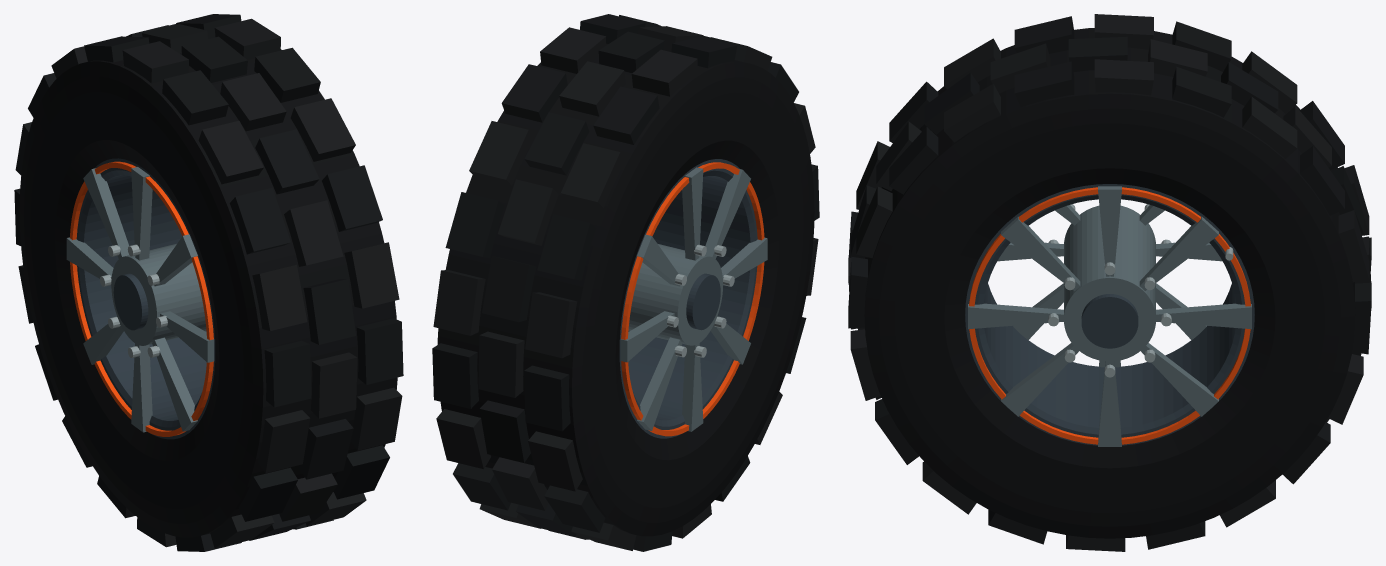
The model's file is M02-001_segmented_offroad_wheel.obj.
3 views of the same model, side by side, from view 1: azimuth 30°, elevation 25°; view 2: azimuth 150°, elevation 25°; view 3: azimuth 270°, elevation 25° (orthographic).
Parts seen in each view (by area): view 1: Tire_Carcass, Rim_Outer, Axle_Hub, Rim_Accent_L, Lug_2_10, Lug_3_09, Lug_1_09, Lug_2_08, Lug_3_10, Lug_1_10, Lug_2_09, Lug_3_11 (+34 smaller); view 2: Tire_Carcass, Rim_Outer, Axle_Hub, Rim_Accent_L, Lug_1_02, Lug_3_02, Lug_3_04, Lug_1_04, Lug_2_03, Lug_2_01, Lug_1_03, Lug_3_03 (+34 smaller); view 3: Tire_Carcass, Rim_Outer, Axle_Hub, Rim_Accent_R, Hub_Cap_R, Lug_3_07, Lug_3_06, Lug_3_05, Lug_3_08, Lug_3_04, Spoke_R_1, Spoke_R_5 (+39 smaller).
Boxes of the visible parts, left/top/right/bottom form: Tire_Carcass: left=19, top=49, right=397, bottom=537; Rim_Outer: left=76, top=158, right=215, bottom=439; Axle_Hub: left=111, top=243, right=206, bottom=345; Rim_Accent_L: left=69, top=161, right=213, bottom=436; Lug_2_10: left=303, top=279, right=355, bottom=344; Lug_3_09: left=322, top=165, right=382, bottom=231; Lug_1_09: left=229, top=187, right=290, bottom=254; Lug_2_08: left=255, top=129, right=319, bottom=194; Lug_3_10: left=344, top=242, right=399, bottom=308; Lug_1_10: left=252, top=264, right=307, bottom=330; Lug_2_09: left=284, top=200, right=343, bottom=266; Lug_3_11: left=356, top=318, right=403, bottom=384; Tire_Carcass: left=437, top=43, right=814, bottom=536; Rim_Outer: left=619, top=159, right=757, bottom=438; Axle_Hub: left=628, top=244, right=723, bottom=345; Rim_Accent_L: left=621, top=162, right=764, bottom=436; Lug_1_02: left=525, top=292, right=577, bottom=358; Lug_3_02: left=433, top=270, right=485, bottom=335; Lug_3_04: left=469, top=121, right=532, bottom=185; Lug_1_04: left=561, top=143, right=624, bottom=208; Lug_2_03: left=498, top=179, right=558, bottom=245; Lug_2_01: left=478, top=331, right=524, bottom=397; Lug_1_03: left=537, top=214, right=596, bottom=280; Lug_3_03: left=445, top=192, right=504, bottom=257; Tire_Carcass: left=864, top=28, right=1355, bottom=538; Rim_Outer: left=965, top=184, right=1254, bottom=445; Axle_Hub: left=1064, top=205, right=1155, bottom=361; Rim_Accent_R: left=969, top=187, right=1250, bottom=444; Hub_Cap_R: left=1081, top=294, right=1138, bottom=348; Lug_3_07: left=1014, top=61, right=1074, bottom=107; Lug_3_06: left=1094, top=59, right=1153, bottom=95; Lug_3_05: left=1172, top=66, right=1231, bottom=117; Lug_3_08: left=944, top=83, right=1000, bottom=142; Lug_3_04: left=1242, top=96, right=1297, bottom=158; Spoke_R_1: left=1156, top=303, right=1251, bottom=329; Spoke_R_5: left=968, top=303, right=1063, bottom=329.
Size of the model in its own units: 0.384 by 1.07 by 1.07.
